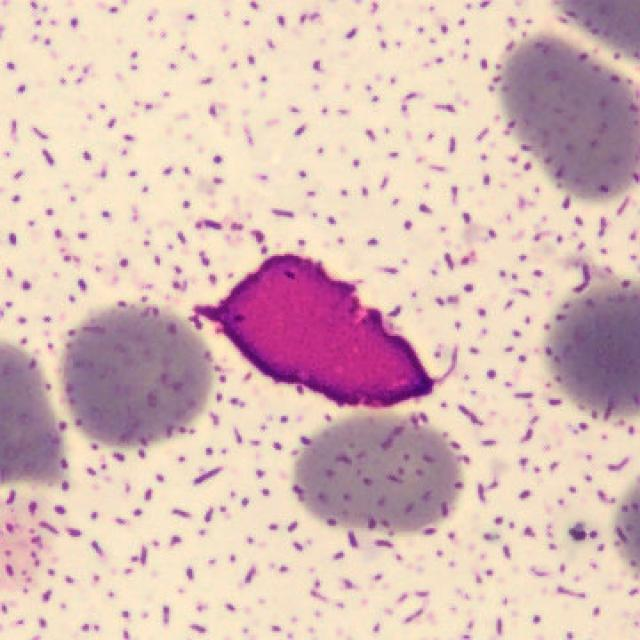Artefato: (196, 256, 436, 409)
